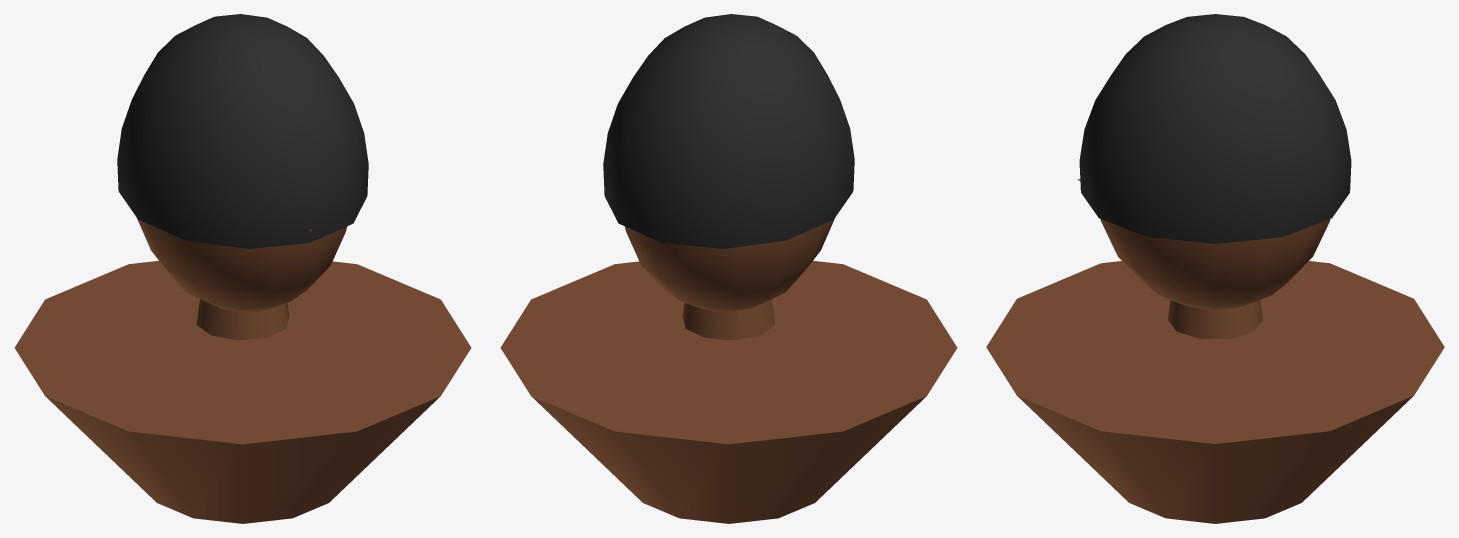
Rendered from raw_002.glb.
3 renders of one model, left to right at view 1: azimuth 30°, elevation 25°; view 2: azimuth 150°, elevation 25°; view 3: azimuth 270°, elevation 25°, orthographic.
Size of the model in its own units: 2.02 by 2.23 by 2.02.
